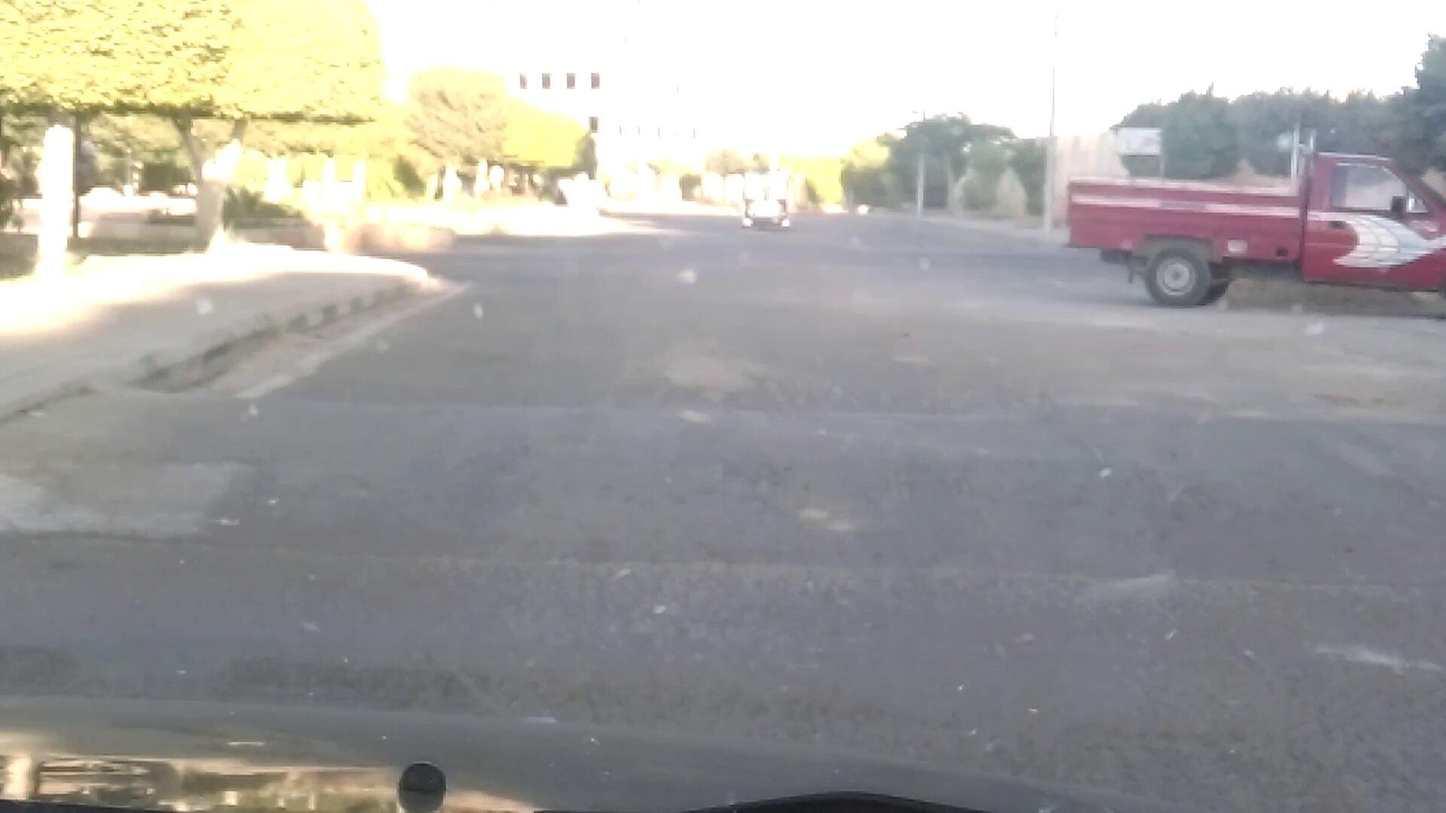Bump: (128, 380, 1446, 604)
